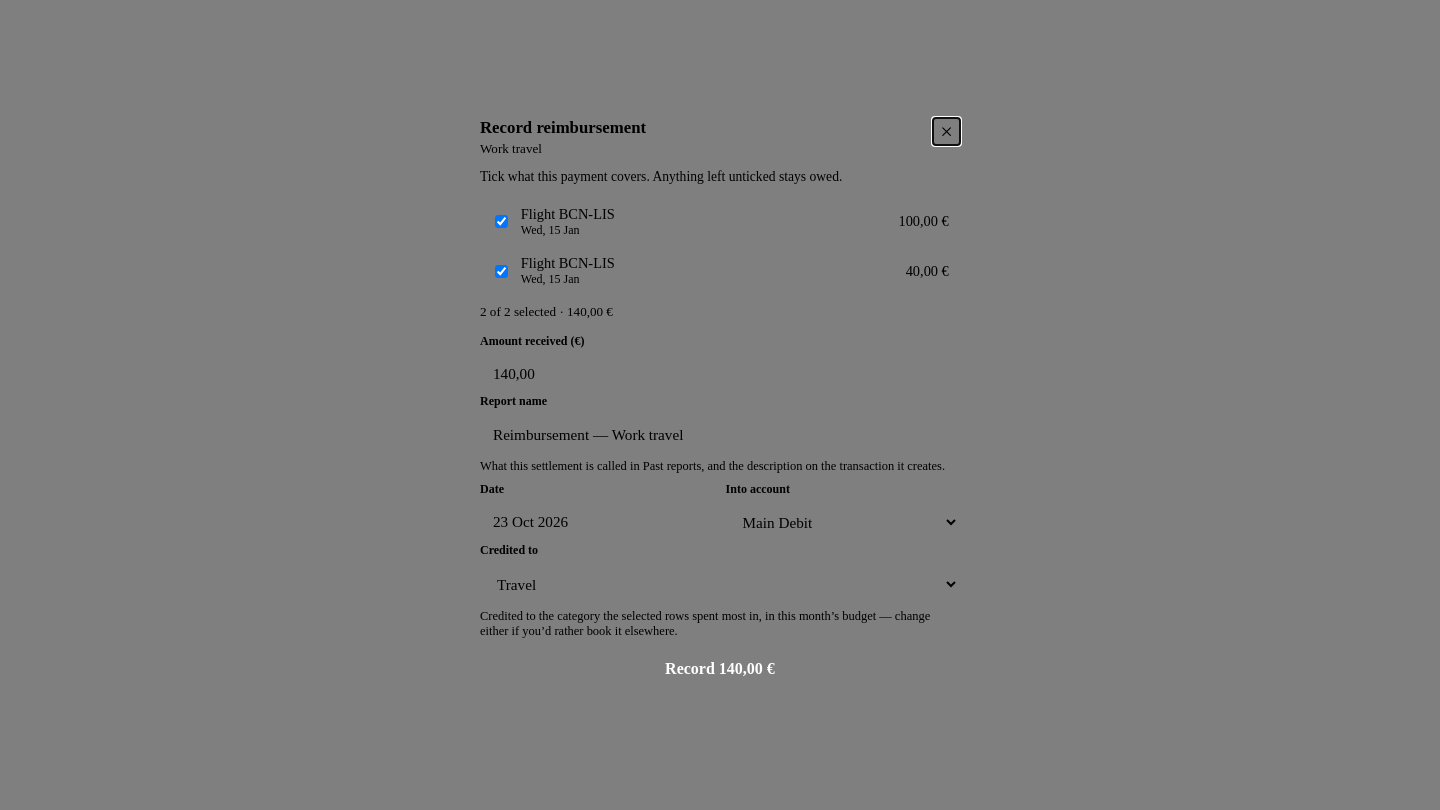
Test: RecordReimbursementSheet › follows the ticks with the amount, and says what is left owed
Click the checkbox labelled "Flight BCN-LIS Wed, 15 Jan 40,00 €": (502, 271) x1=495 y1=265 x2=508 y2=278
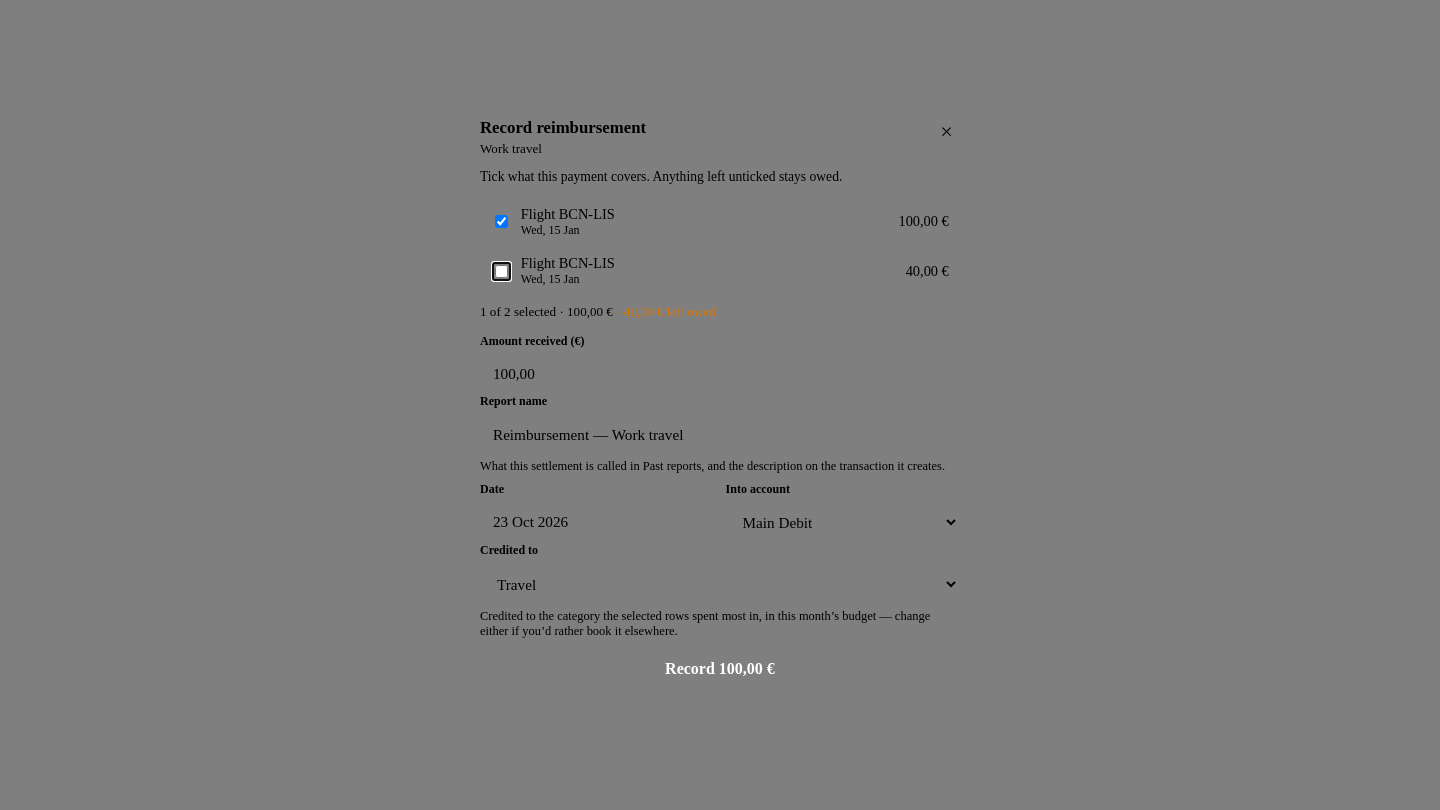
Result: the field named "Amount received" holds "100,00" at x1=480 y1=354 x2=978 y2=394
Result: the text "· 40,00 € left owed" is shown at x1=613 y1=304 x2=716 y2=319
